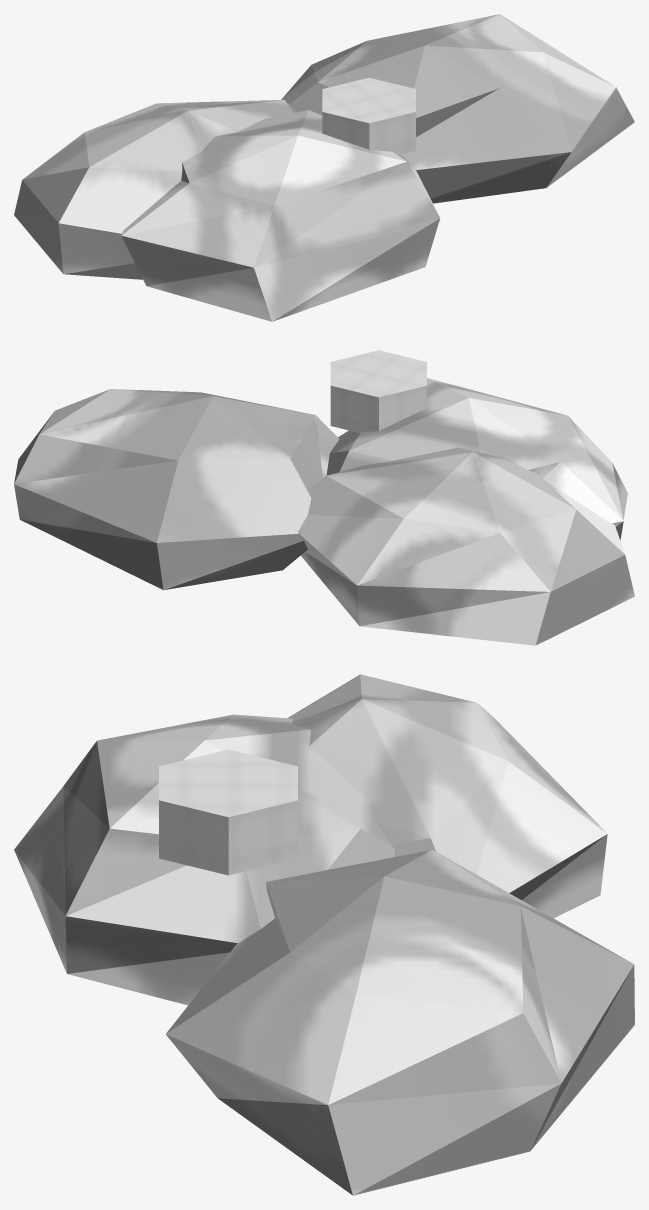
Rendered from food_psychoid.obj.
3 renders of one model, top to bottom at view 1: azimuth 30°, elevation 25°; view 2: azimuth 150°, elevation 25°; view 3: azimuth 270°, elevation 25°, orthographic. The views are drawn at different scales.
Parts seen in each view (by area): view 1: food_psychoid; view 2: food_psychoid; view 3: food_psychoid.
Part boxes in pixels (left/top/right/bottom): food_psychoid: left=14, top=14, right=634, bottom=321; food_psychoid: left=14, top=350, right=634, bottom=645; food_psychoid: left=14, top=674, right=634, bottom=1195.
Bounding box in the file's own units: 0.6249 × 0.13 × 0.3867.
